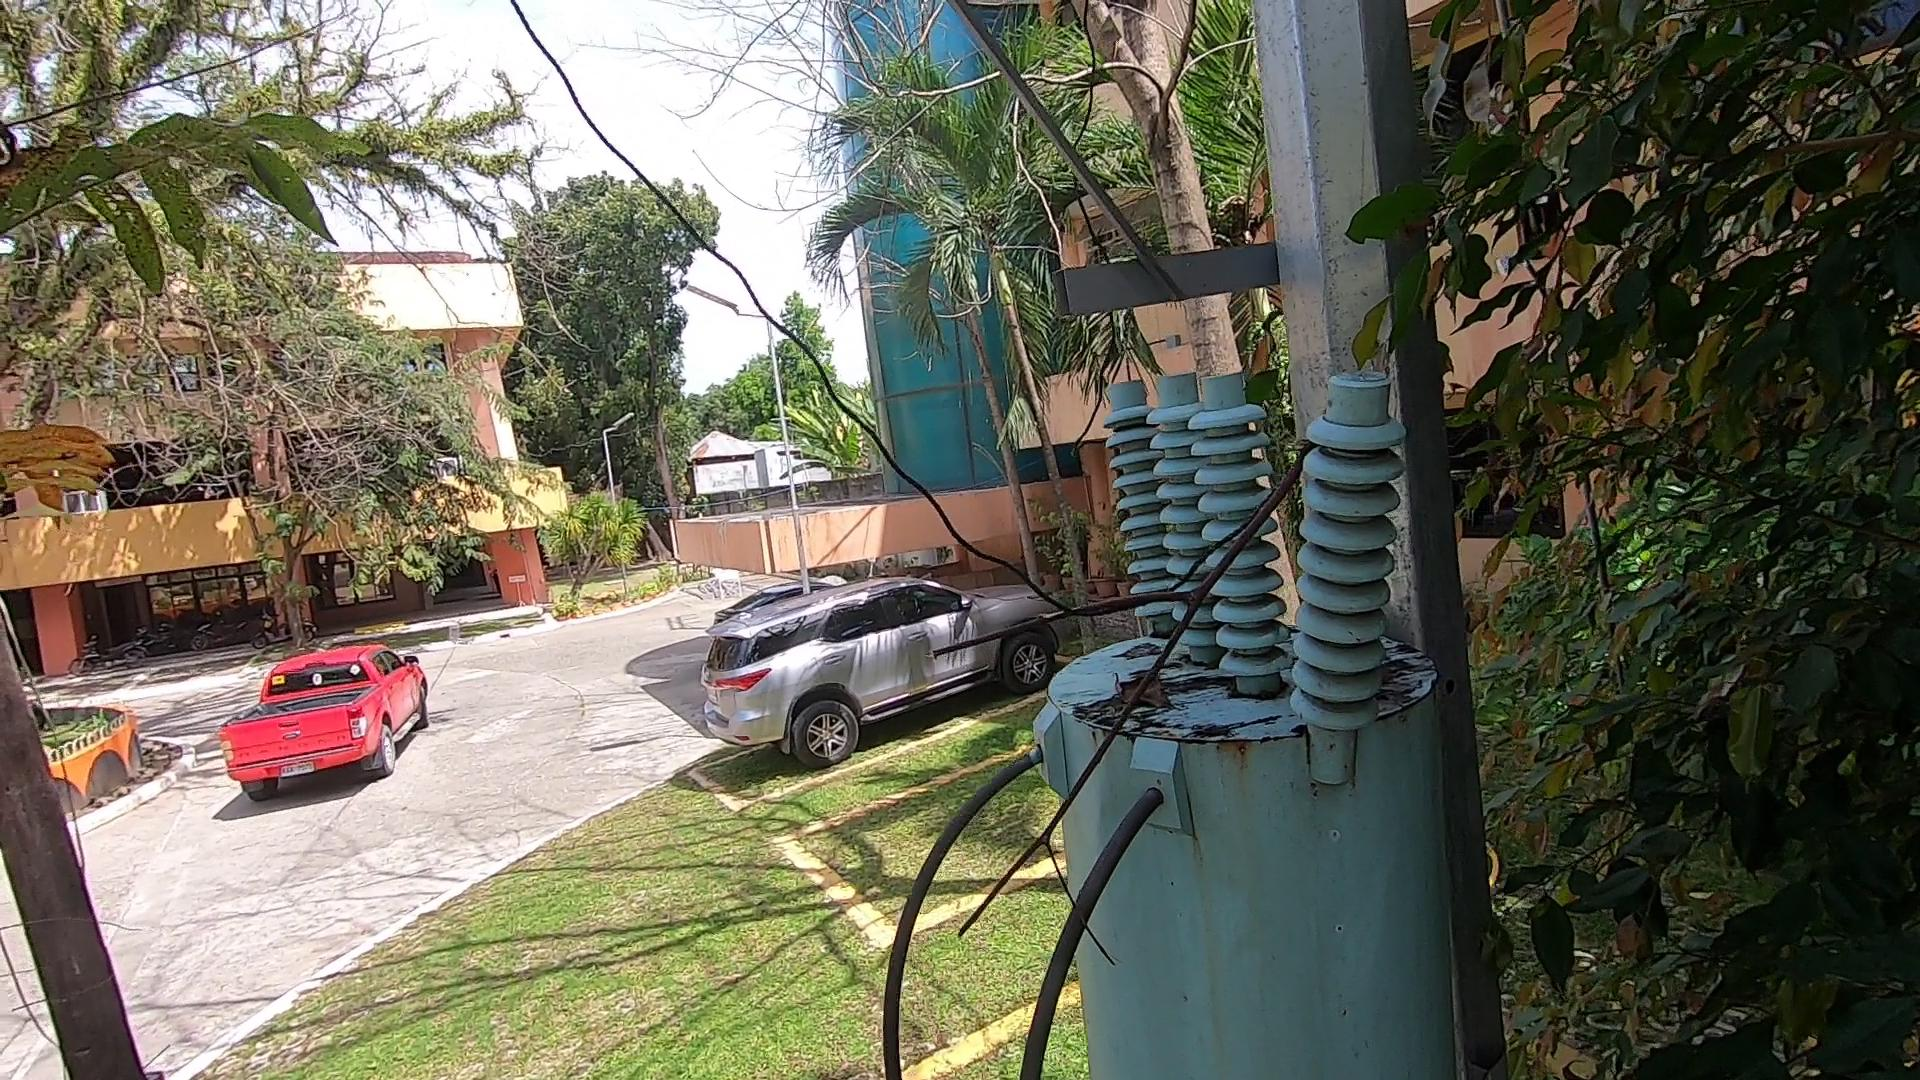leaf: (1088, 647, 1179, 721)
tree branch: (902, 364, 1344, 978)
